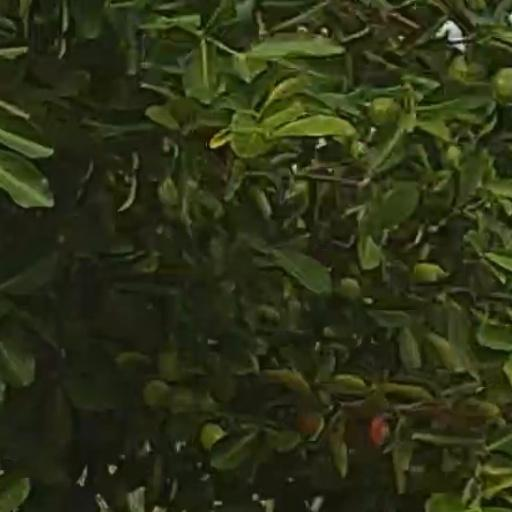acerola: (495, 68, 512, 104), (371, 420, 388, 444)
